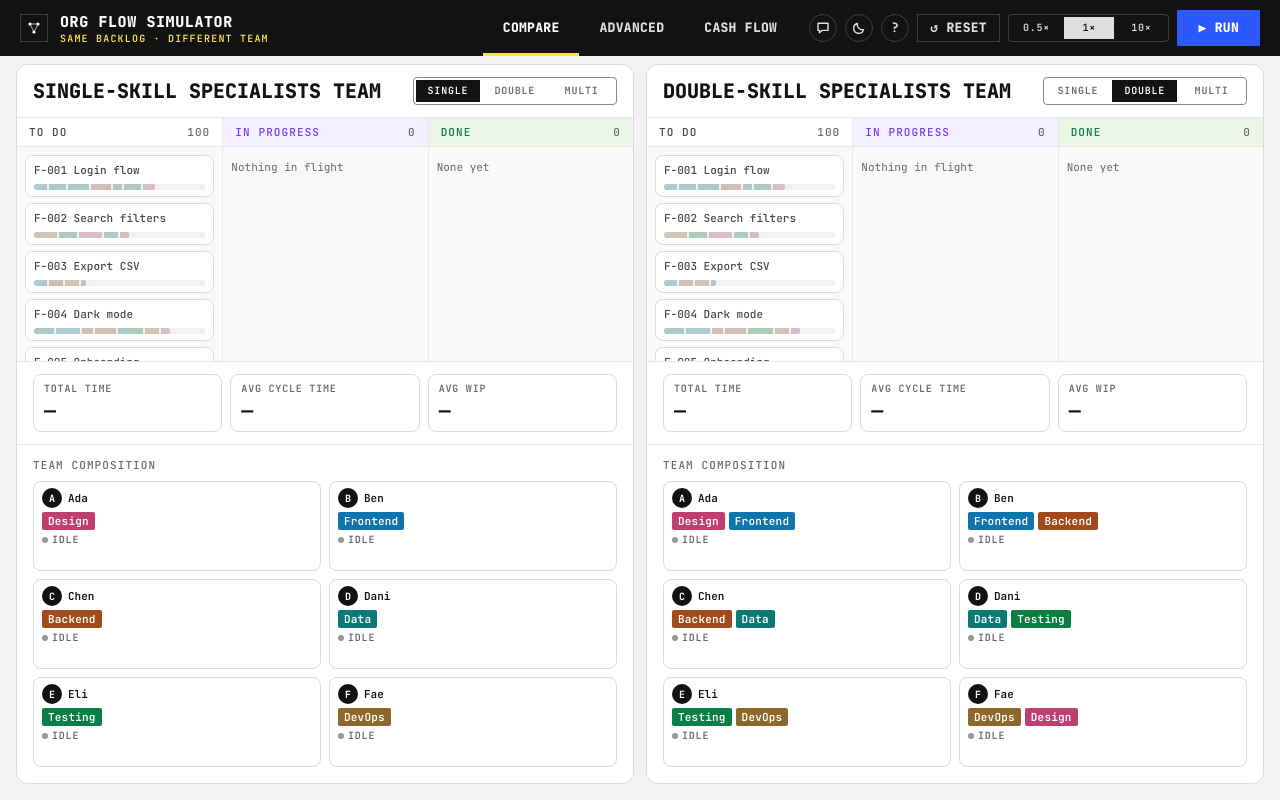
Scenario: feat-025 Příklad 11: „?“ v Compare začíná úvodní kartou › po dokončení prohlídky „?“ otevře „WELCOME · 1 / 14“
The image size is (1280, 800).
Click the button named "Restart tutorial" at (895, 28), box [881,14,909,42]
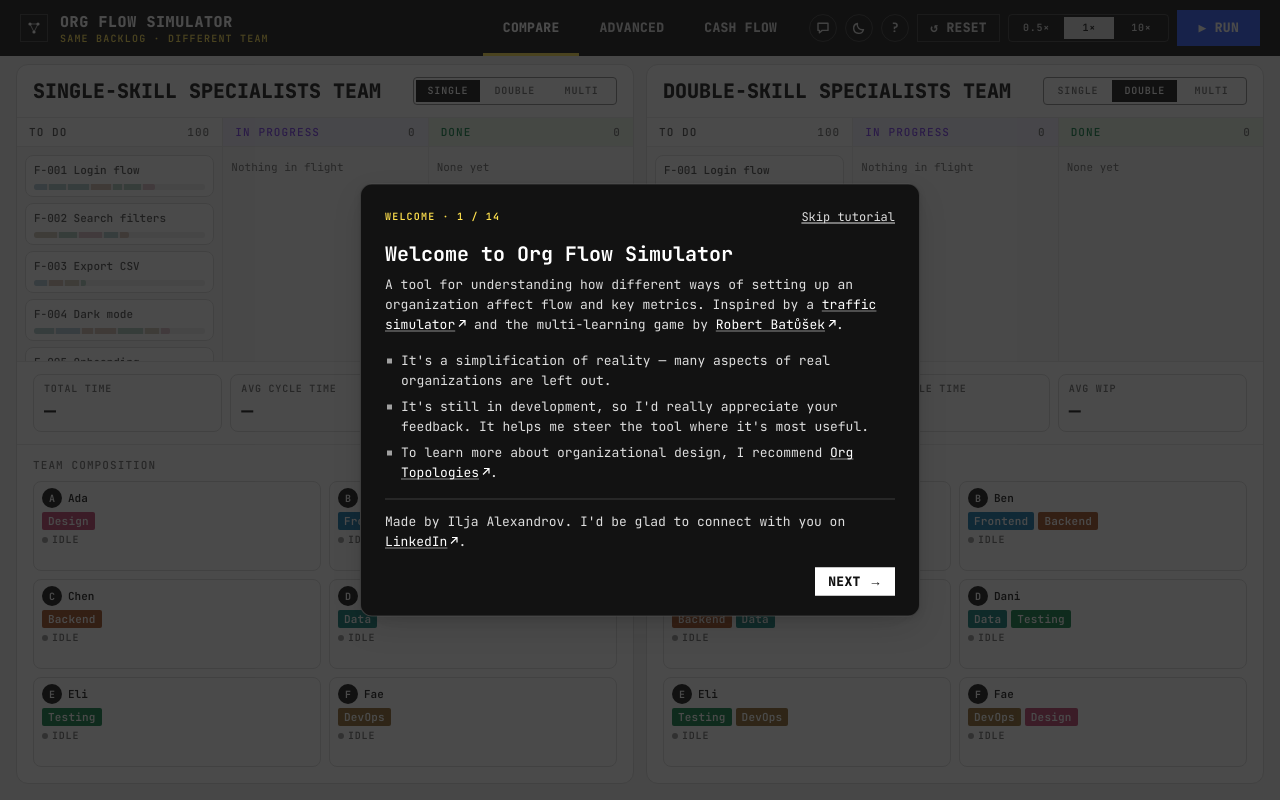
Expected: the text "WELCOME · 1 / 14" is shown, [385,210,500,222]
